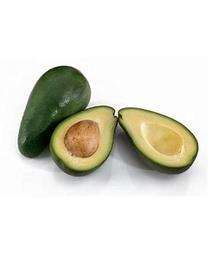avocado: (18, 66, 92, 158), (118, 107, 199, 175), (48, 105, 117, 178)
